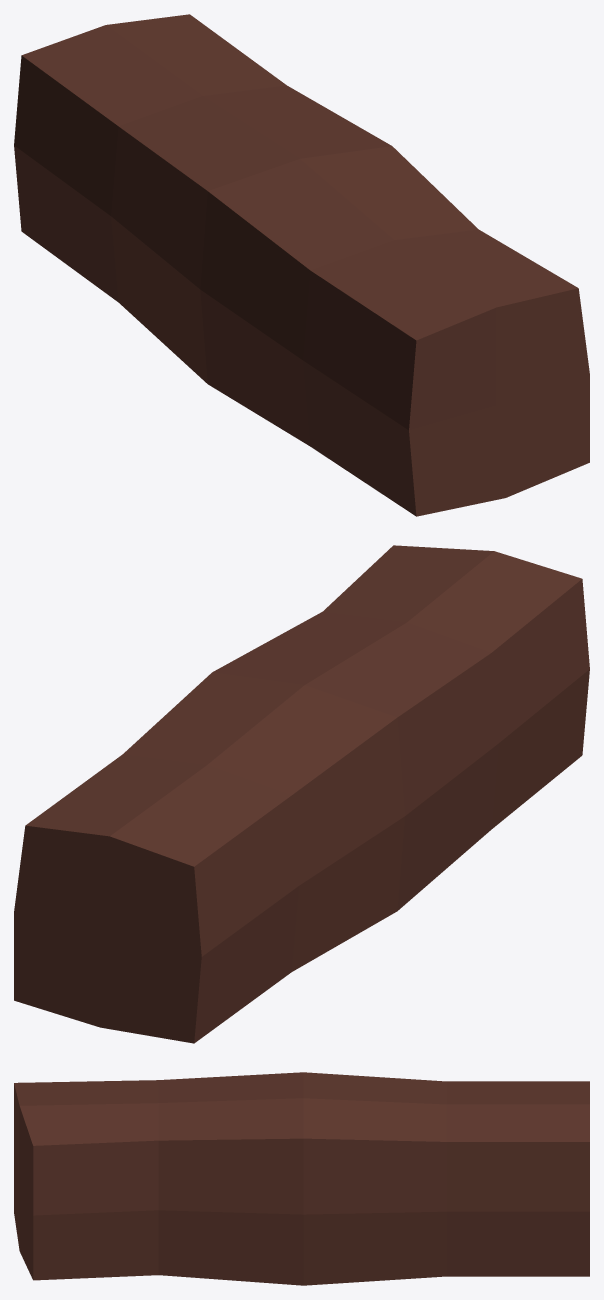
File: WoodHorizontalPost4x4001.fbx
The picture shows the model from 3 angles, top to bottom: view 1: azimuth 30°, elevation 25°; view 2: azimuth 150°, elevation 25°; view 3: azimuth 270°, elevation 25°; orthographic projection. The views are drawn at different scales.
Visible parts, largest first — view 1: WoodHorizontalPost4x4001; view 2: WoodHorizontalPost4x4001; view 3: WoodHorizontalPost4x4001.
Boxes of the visible parts, x1,y1,x2,y2 form: WoodHorizontalPost4x4001: (14, 14, 589, 516); WoodHorizontalPost4x4001: (14, 545, 589, 1043); WoodHorizontalPost4x4001: (14, 1072, 589, 1285).
Bounding box in the file's own units: 61.25 × 59.56 × 201.
